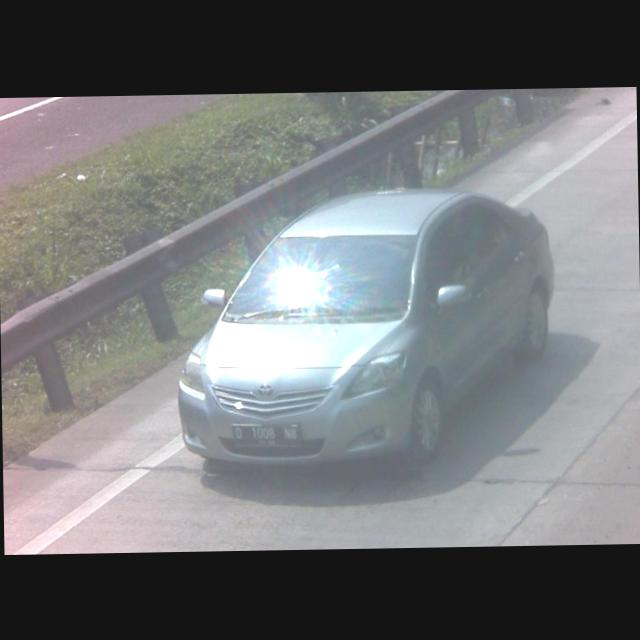plate: (230, 422, 302, 446)
